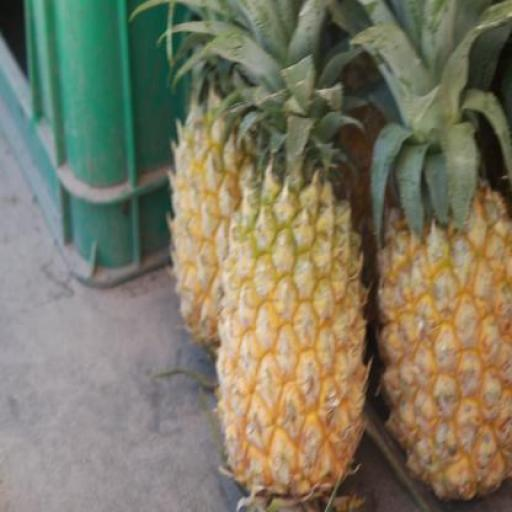Pineapple - v8 v1: (220, 176, 366, 494), (378, 199, 512, 504), (170, 106, 264, 356)
